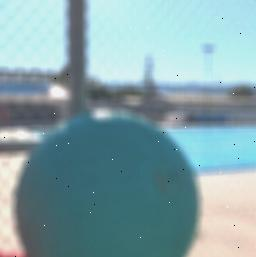algae: (10, 109, 205, 257)
